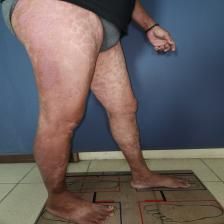Psoriasis vulgaris: (17, 3, 76, 53), (37, 56, 66, 92)
